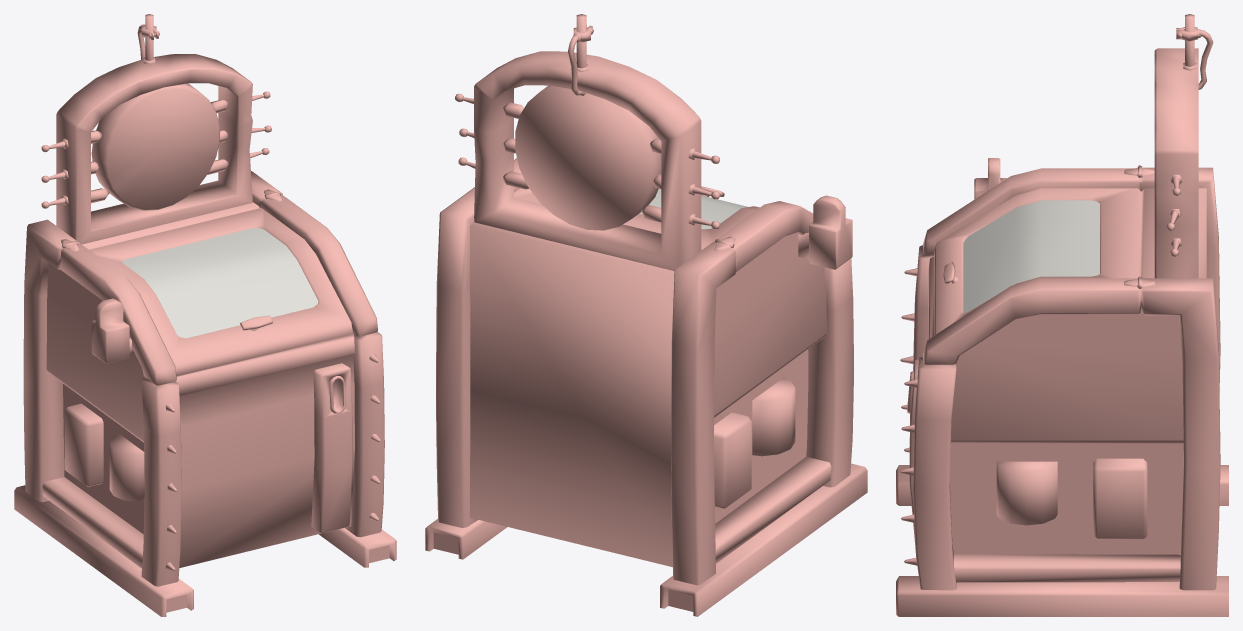
File: Electric Cherry Machine.fbx
The picture shows the model from 3 angles, left to right: view 1: azimuth 30°, elevation 25°; view 2: azimuth 150°, elevation 25°; view 3: azimuth 270°, elevation 25°; orthographic projection. The views are drawn at different scales.
Parts seen in each view (by area): view 1: cherry, cherryglass; view 2: cherry, cherryglass; view 3: cherry, cherryglass.
Part boxes in pixels (<box>): cherry: <box>14,14,396,616</box>; cherryglass: <box>122,228,318,338</box>; cherry: <box>425,14,867,616</box>; cherryglass: <box>639,188,747,229</box>; cherry: <box>896,14,1228,616</box>; cherryglass: <box>963,200,1099,313</box>.
Bounding box in the file's own units: 3783 × 6719 × 3780.
